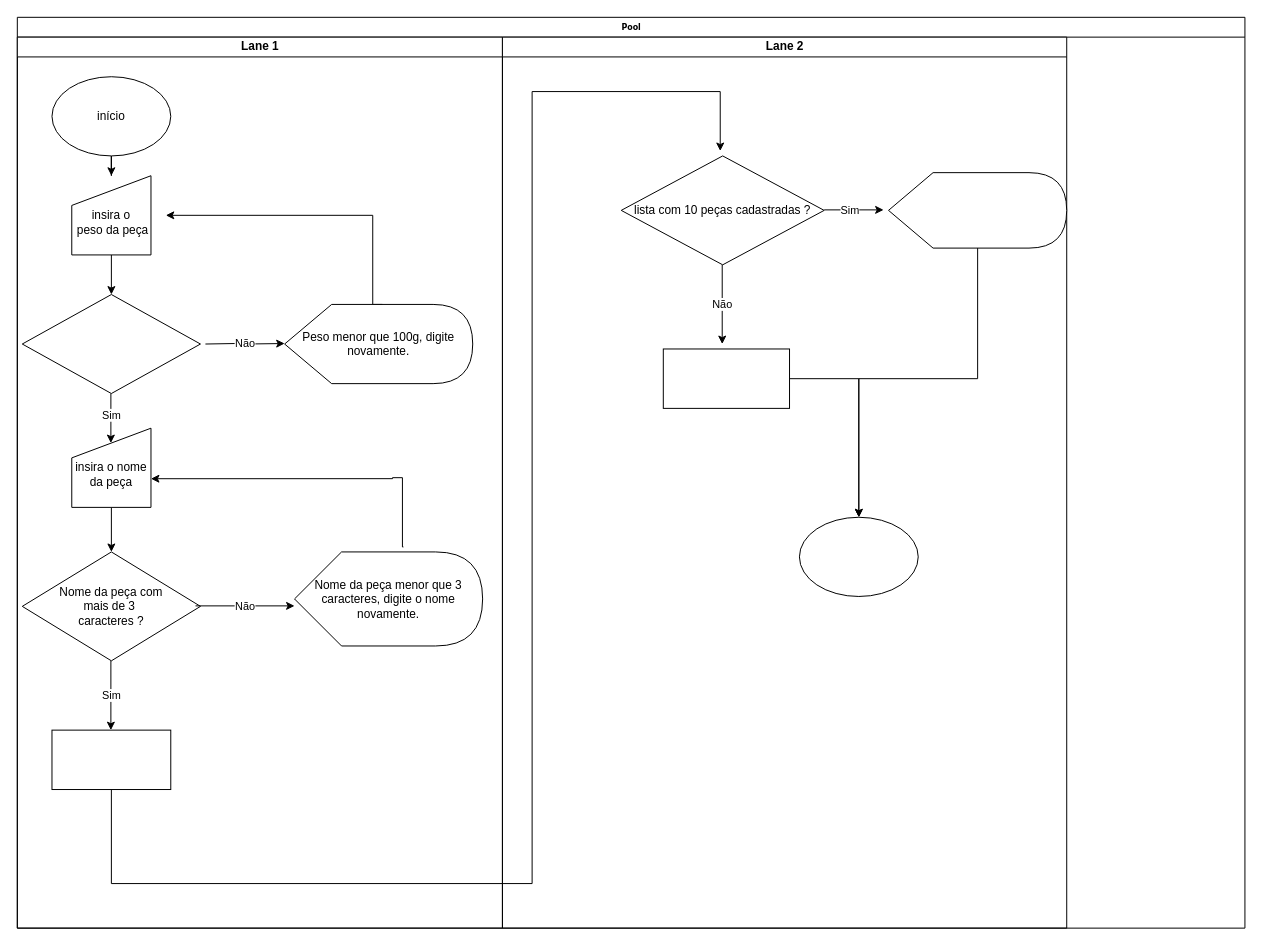
This 1262x945 diagram has some shape labels left out. The shapes that lost their labels are listed below. From the top down, each one's centre as x and y in pixels, then its label:
At [977,210]: "Lista de peças está lotada".
At [110,344]: "A peça pesa mais de 100g?".
At [726,378]: "Cadastrar peças na lista até atingir 10 itens".
At [858,556]: "Fim".
At [111,759]: "Cadastrar peça no sistema".
